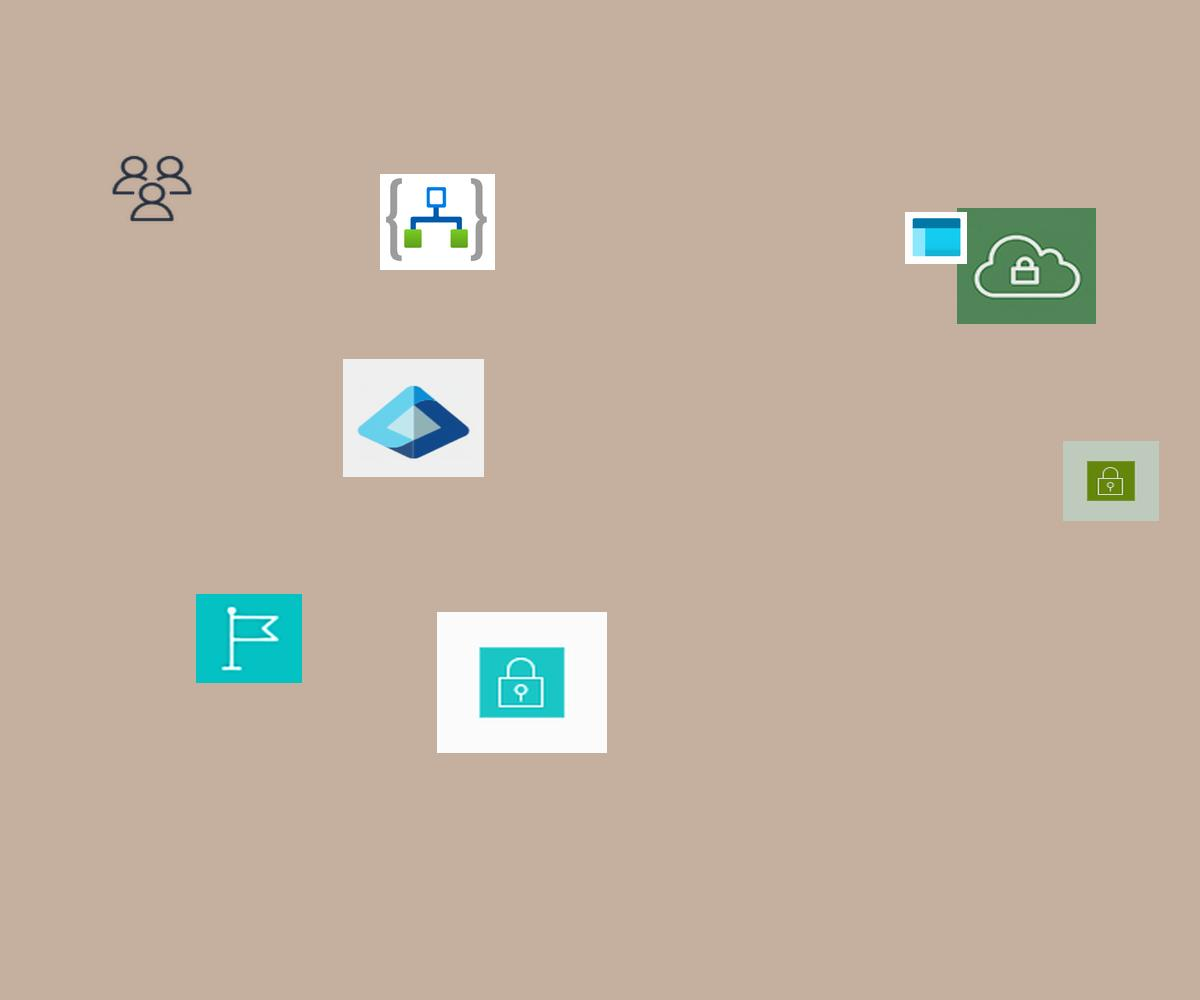AWS-Private-subnet: (437, 612, 607, 753)
AWS-Private_vpc: (957, 208, 1096, 324)
AWS-Public-subnet: (1063, 441, 1159, 521)
AWS-Region: (196, 594, 302, 683)
AWS-Res_Users: (109, 153, 195, 224)
Azure_integration-204-Logic-Apps: (380, 174, 495, 270)
Azure_management-portal: (905, 212, 967, 264)
Azure_microsoft_entra: (343, 359, 484, 477)
